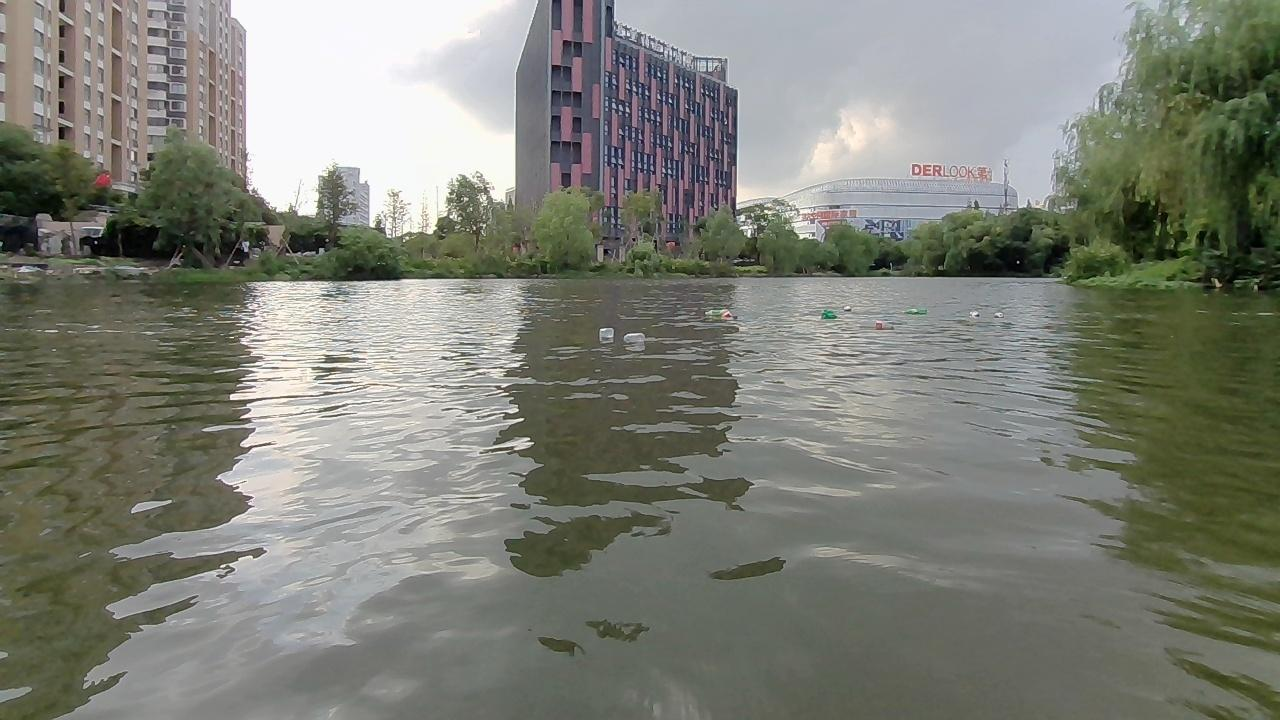bottle: (864, 316, 893, 332), (901, 303, 930, 316), (621, 332, 648, 345), (703, 306, 733, 317), (819, 309, 840, 322), (596, 325, 614, 340), (963, 308, 982, 322), (842, 302, 855, 312), (992, 310, 1003, 320)
